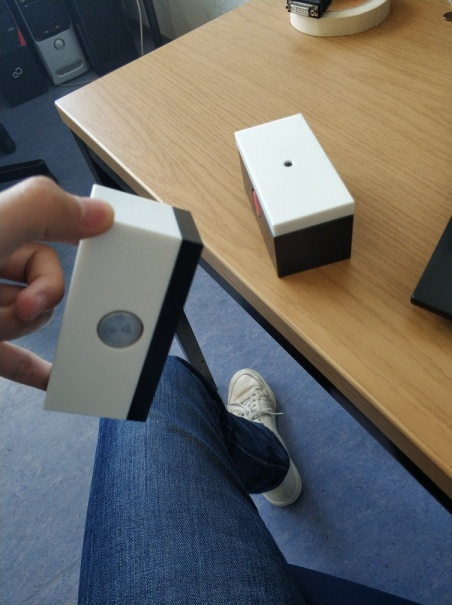black+white+silver: (40, 180, 206, 424)
white+black+red: (229, 111, 358, 282)
